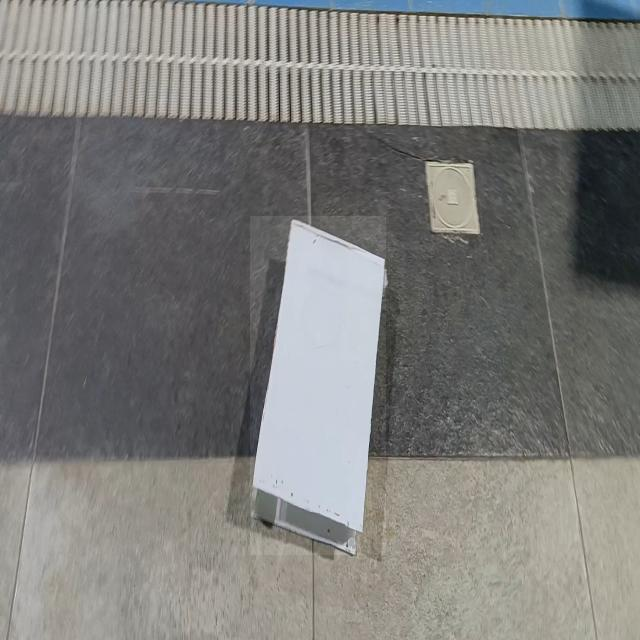Cuboid: (250, 216, 386, 555)
